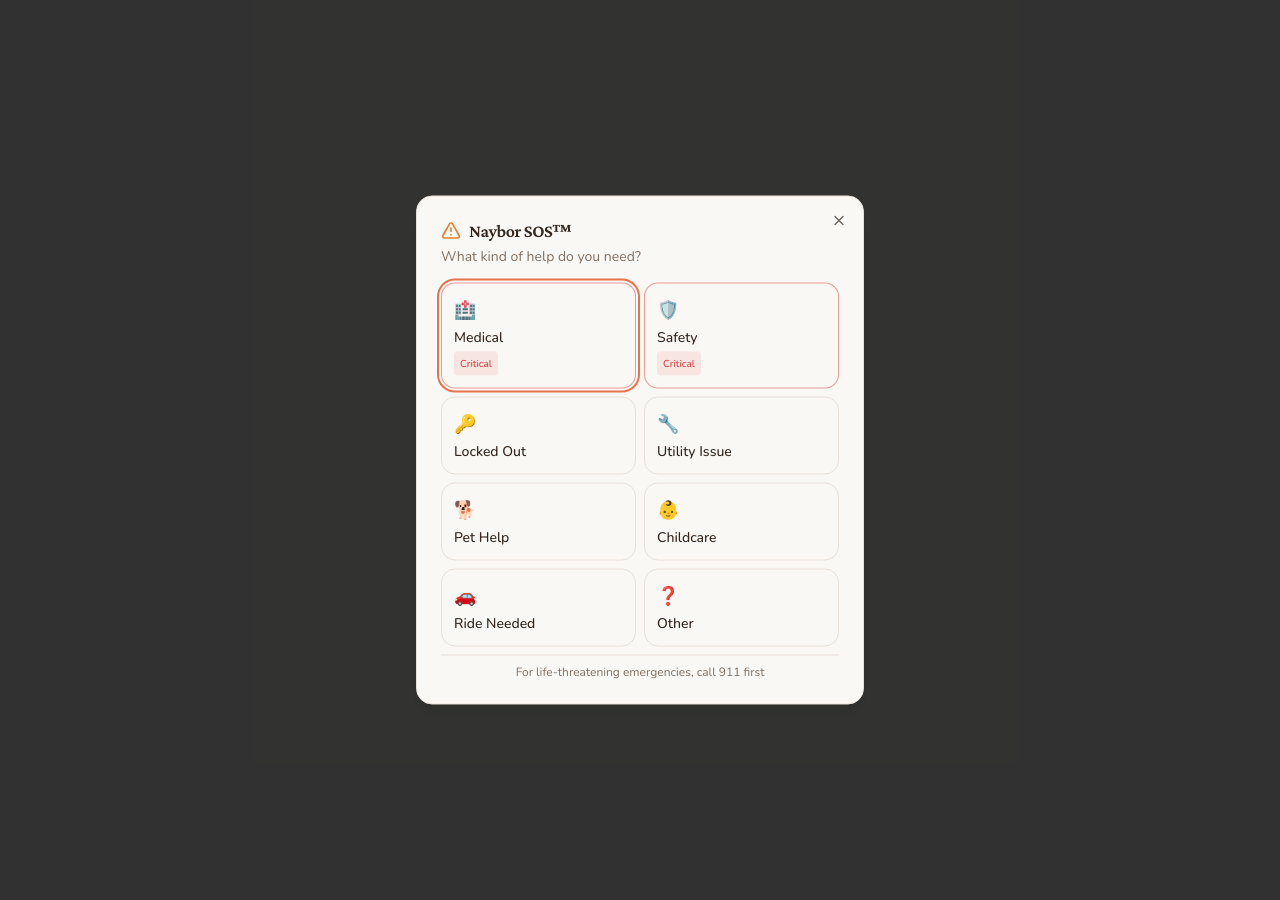
Test case: NayborSOSDialog Component › should show category descriptions on selection
Click the button "🏥 Medical Critical" at (538, 336), box [441,282,636,388]
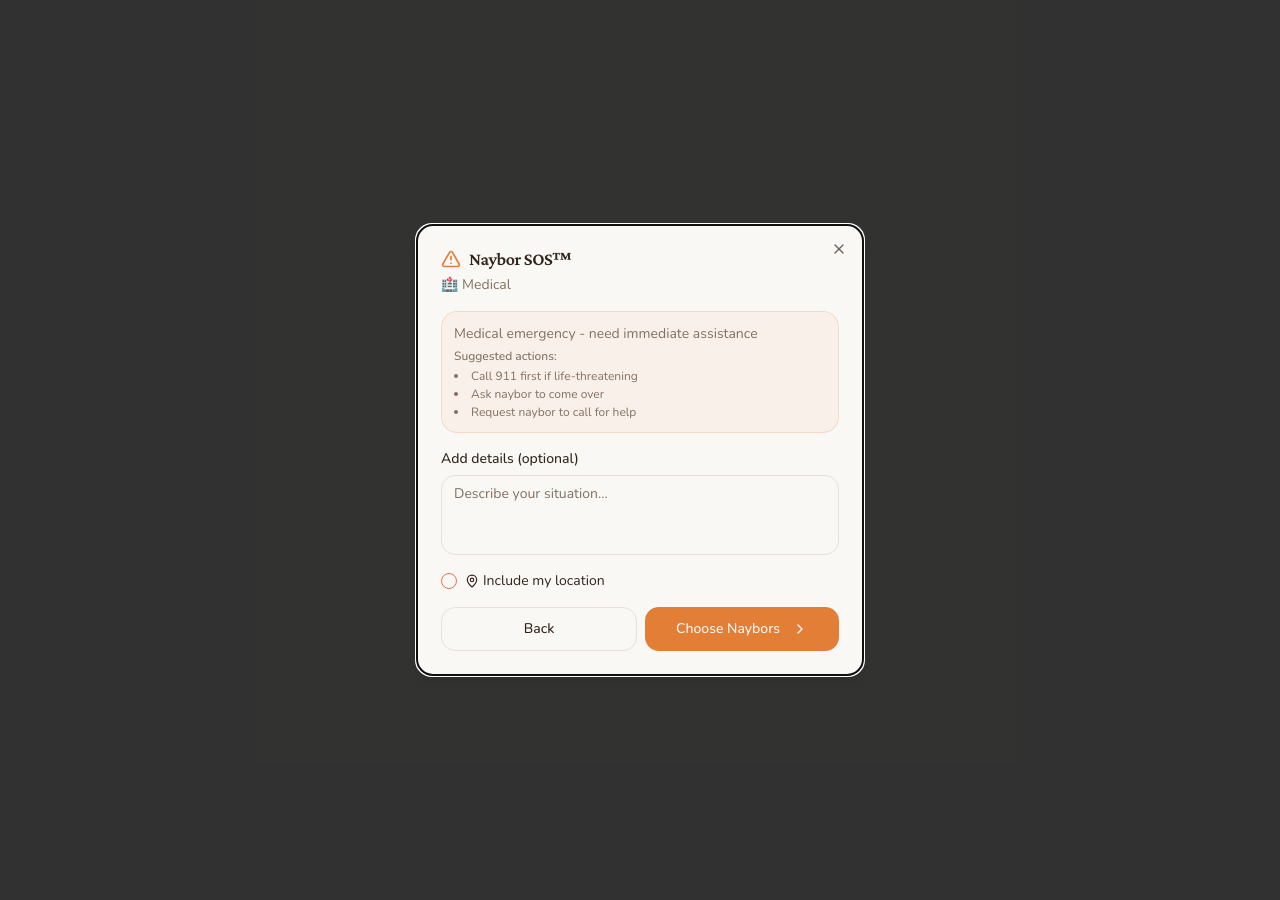
Result: the text "Medical emergency - need immediate assistance" is shown at [454,324,758,343]
